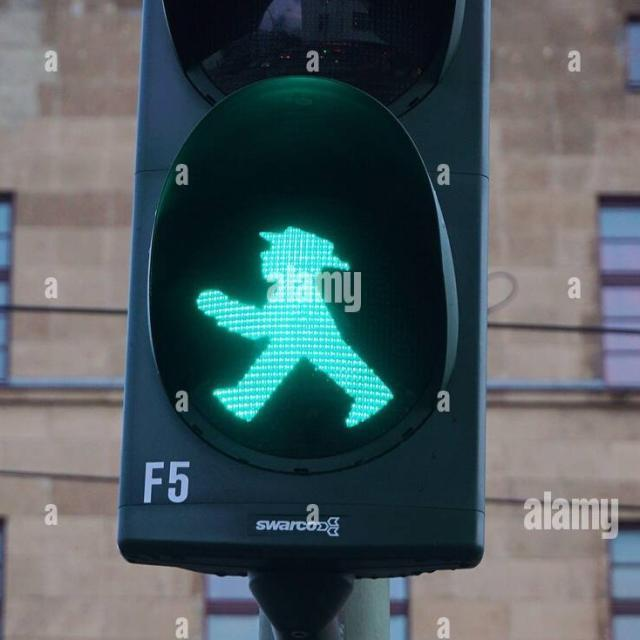geen-crossing: (190, 210, 394, 432)
